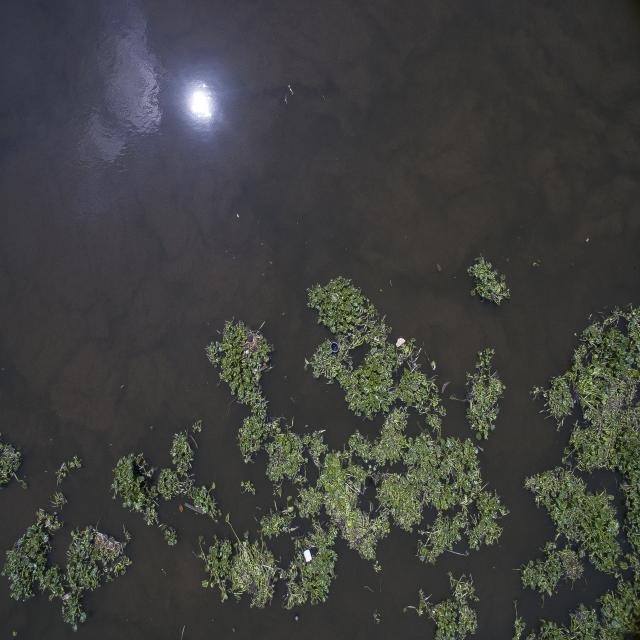plastic: (394, 327, 410, 353), (301, 548, 316, 566)
